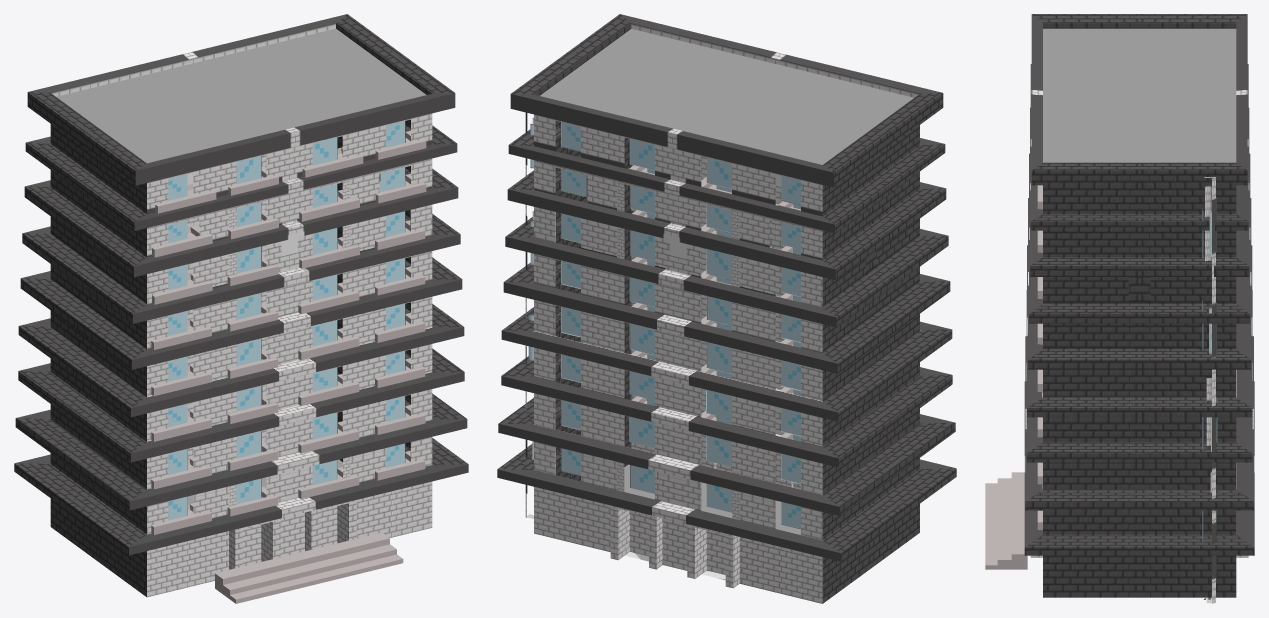
The model's file is apt.fbx.
3 renders of one model, left to right at view 1: azimuth 30°, elevation 25°; view 2: azimuth 150°, elevation 25°; view 3: azimuth 270°, elevation 25°, orthographic.
Visible parts, largest first — view 1: pCube38, pasted__pCube34, pCube34, pasted__pCube18, pasted__pCube21, pCube24, pasted__pCube19, pasted__pCube22, pCube21, pCube22, pCube18, pCube19 (+21 smaller); view 2: pCube38, pCylinder1; view 3: pCube38, pCylinder1, pCube34, pasted__pCube34.
Boxes of the visible parts, box(x1,y1,x2,y2) form: pCube38: box(14, 14, 468, 597); pasted__pCube34: box(215, 552, 320, 603); pCube34: box(300, 532, 403, 583); pasted__pCube18: box(152, 225, 212, 257); pasted__pCube21: box(151, 364, 211, 396); pCube24: box(298, 467, 359, 499); pasted__pCube19: box(152, 273, 212, 304); pasted__pCube22: box(151, 410, 211, 441); pCube21: box(298, 328, 359, 360); pCube22: box(298, 374, 359, 405); pCube18: box(299, 189, 359, 221); pCube19: box(299, 237, 359, 268); pCube38: box(497, 14, 956, 603); pCylinder1: box(525, 112, 533, 518); pCube38: box(1024, 14, 1254, 597); pCylinder1: box(1202, 177, 1217, 603); pCube34: box(985, 513, 1027, 569); pasted__pCube34: box(985, 472, 1024, 524).
Bounding box in the file's own units: 14.25 × 17.43 × 9.76.
Materials: 3 (1 with a texture image).
